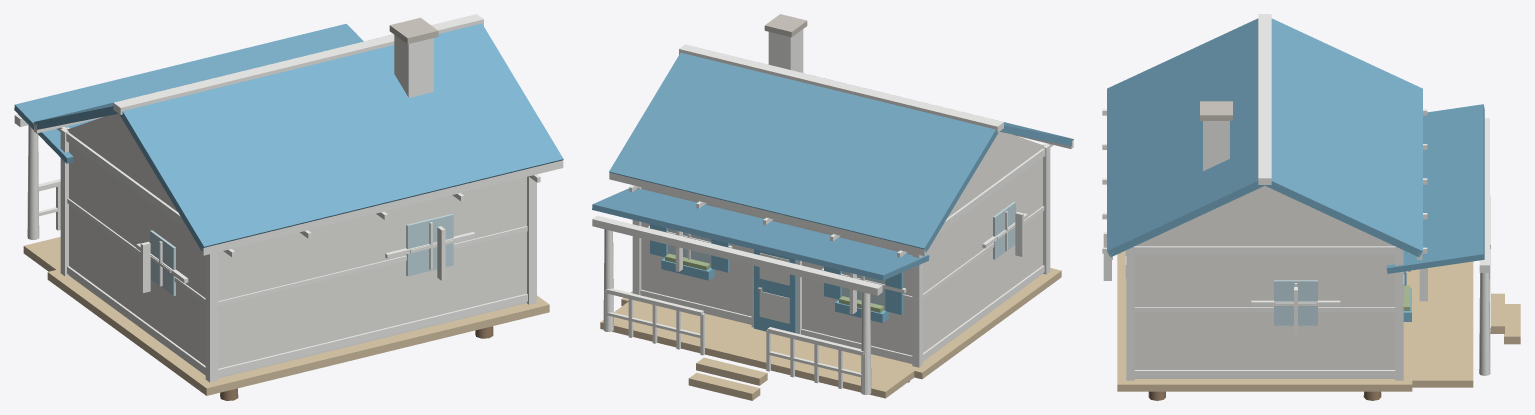
Rendered from house_blue.glb.
3 views of the same model, side by side, from view 1: azimuth 30°, elevation 25°; view 2: azimuth 150°, elevation 25°; view 3: azimuth 270°, elevation 25° (orthographic). The views are drawn at different scales.
Parts seen in each view (by area): view 1: house_blue; view 2: house_blue; view 3: house_blue.
Boxes of the visible parts, x1,y1,x2,y2 form: house_blue: (14,14,563,400); house_blue: (592,14,1073,400); house_blue: (1102,14,1520,400).
Bounding box in the file's own units: 7.53 × 5.79 × 8.08.
